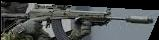gun: (1, 1, 159, 40)
